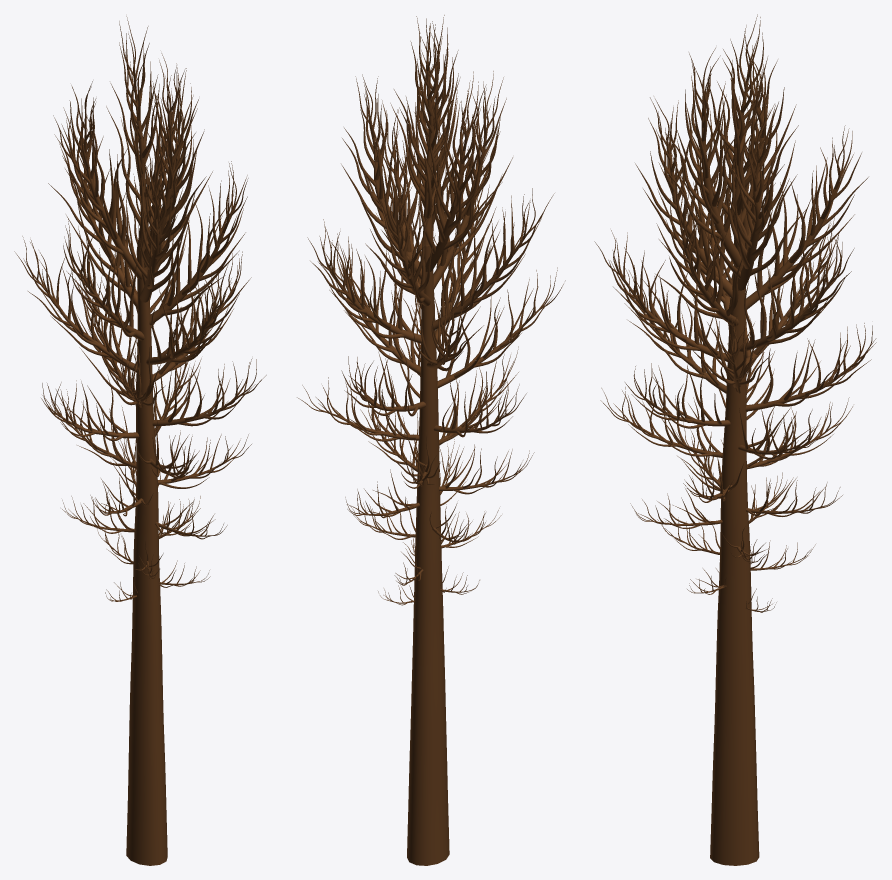
The model's file is tree.fbx.
3 renders of one model, left to right at view 1: azimuth 30°, elevation 25°; view 2: azimuth 150°, elevation 25°; view 3: azimuth 270°, elevation 25°, orthographic.
Visible parts, largest first — view 1: tree; view 2: tree; view 3: tree.
Part boxes in pixels (x1,y1,x2,y2): tree: (14, 16, 266, 865); tree: (297, 15, 565, 865); tree: (594, 14, 876, 865).
Size of the model in its own units: 345 by 1392 by 426.
